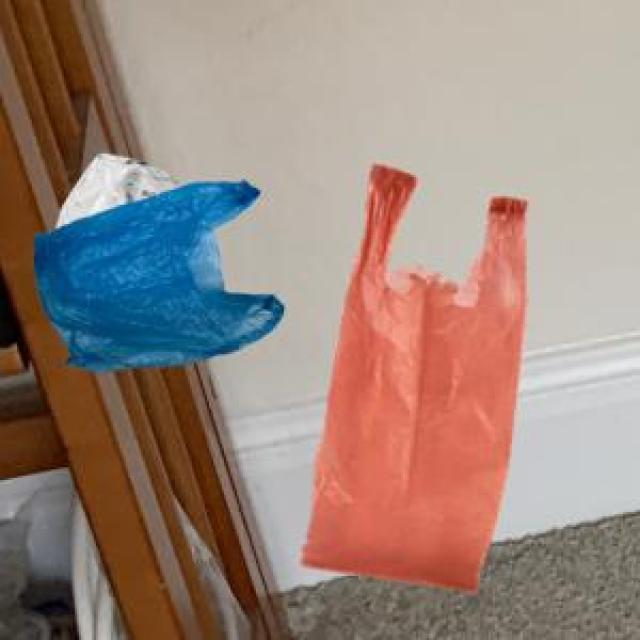waste: (304, 165, 526, 589), (35, 154, 284, 371)
